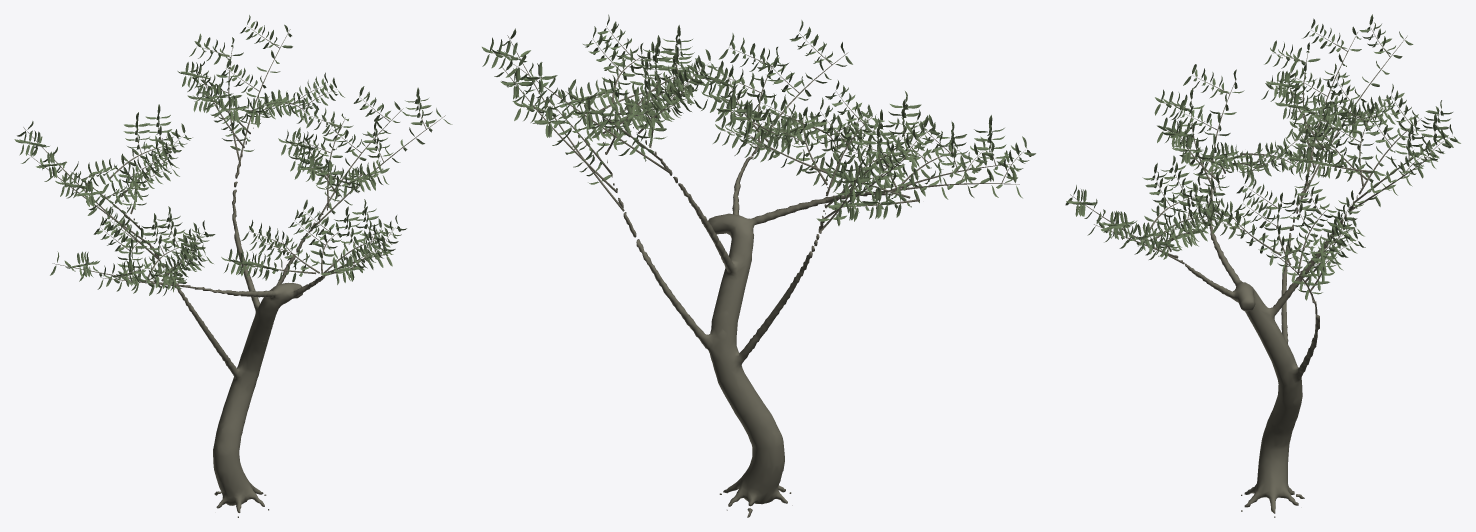
The model's file is Oleastre_0_Niveau0.fbx.
3 renders of one model, left to right at view 1: azimuth 30°, elevation 25°; view 2: azimuth 150°, elevation 25°; view 3: azimuth 270°, elevation 25°, orthographic. The views are drawn at different scales.
Parts seen in each view (by area): view 1: Oleastre_0_Niveau0_Jeu; view 2: Oleastre_0_Niveau0_Jeu; view 3: Oleastre_0_Niveau0_Jeu.
Boxes of the visible parts, left/top/right/bottom form: Oleastre_0_Niveau0_Jeu: left=14, top=15, right=452, bottom=517; Oleastre_0_Niveau0_Jeu: left=482, top=14, right=1035, bottom=517; Oleastre_0_Niveau0_Jeu: left=1065, top=14, right=1460, bottom=517.
Size of the model in its own units: 248 by 228 by 191.
